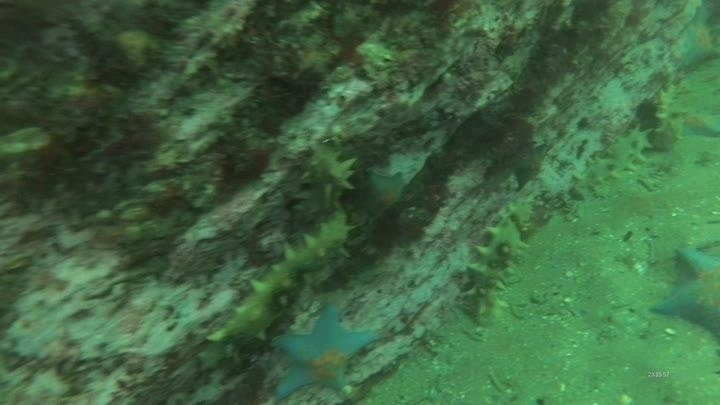holothurian: (205, 212, 356, 352), (461, 197, 537, 327), (570, 123, 657, 199), (292, 139, 360, 222), (650, 79, 690, 153)
starfish: (267, 300, 381, 403), (648, 240, 720, 343), (355, 166, 412, 227), (672, 6, 720, 73), (676, 106, 720, 141)
